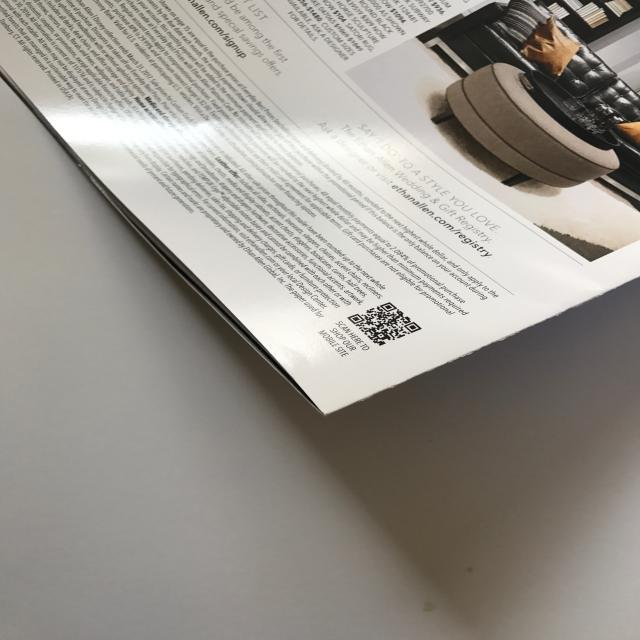paper: (2, 0, 640, 417)
